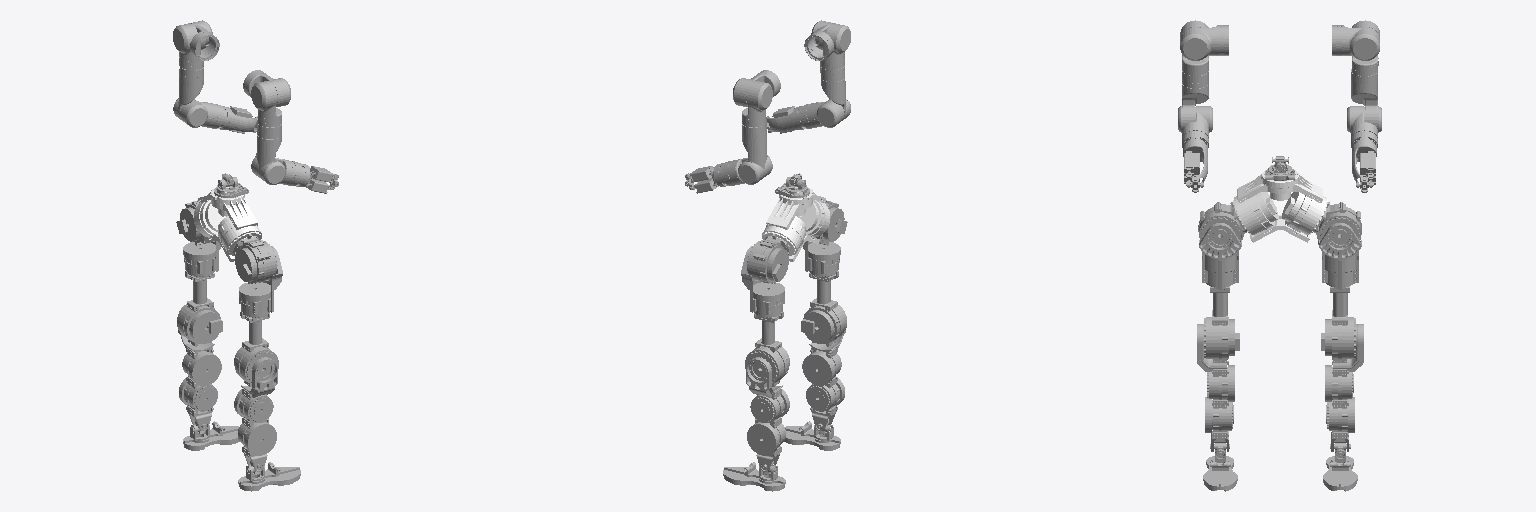
--- Facts derived from the render (not from the file) ---
The picture shows the robot from 3 angles, left to right: view 1: azimuth 30°, elevation 25°; view 2: azimuth 150°, elevation 25°; view 3: azimuth 270°, elevation 25°; orthographic projection.
Robot: dexbot — 30 links, 29 joints (12 revolute, 17 fixed); root link base_link; default pose: every joint at zero.
Visible links, largest first — view 1: leg_r4_link, base_link, leg_l4_link, leg_l3_link, leg_r1_link, leg_r3_link, leg_r2_link, arm_r3_link, leg_l2_link, leg_r6_link, arm_r2_link, leg_l6_link (+8 smaller); view 2: leg_l4_link, base_link, leg_r4_link, leg_r3_link, leg_l1_link, leg_l3_link, leg_l2_link, arm_l3_link, leg_r2_link, leg_l6_link, arm_l2_link, leg_r6_link (+8 smaller); view 3: base_link, leg_l4_link, leg_r4_link, leg_r2_link, leg_l2_link, leg_l3_link, leg_r3_link, arm_r1_link, arm_l1_link, leg_l1_link, leg_r1_link, arm_l5_link (+9 smaller).
Boxes of the visible links, x1,y1,x2,y2 form: leg_r4_link: (234, 357, 277, 471); base_link: (194, 187, 261, 261); leg_l4_link: (178, 308, 221, 430); leg_l3_link: (177, 271, 222, 346); leg_r1_link: (233, 234, 277, 283); leg_r3_link: (234, 312, 278, 386); leg_r2_link: (239, 246, 282, 317); arm_r3_link: (256, 123, 285, 184); leg_l2_link: (183, 241, 220, 276); leg_r6_link: (238, 462, 300, 491); arm_r2_link: (251, 81, 281, 127); leg_l6_link: (183, 421, 239, 450); leg_l4_link: (746, 357, 789, 471); base_link: (762, 187, 829, 261); leg_r4_link: (802, 308, 845, 430); leg_r3_link: (801, 271, 846, 346); leg_l1_link: (746, 234, 790, 283); leg_l3_link: (745, 312, 789, 386); leg_l2_link: (741, 246, 784, 317); arm_l3_link: (738, 123, 767, 184); leg_r2_link: (803, 241, 840, 276); leg_l6_link: (723, 462, 785, 491); arm_l2_link: (742, 81, 772, 127); leg_r6_link: (784, 421, 840, 450); base_link: (1233, 170, 1327, 242); leg_l4_link: (1325, 324, 1363, 451); leg_r4_link: (1197, 324, 1234, 451); leg_r2_link: (1199, 223, 1241, 289); leg_l2_link: (1319, 223, 1361, 289); leg_l3_link: (1321, 286, 1356, 362); leg_r3_link: (1204, 286, 1239, 362); arm_r1_link: (1180, 25, 1228, 60); arm_l1_link: (1332, 25, 1379, 60); leg_l1_link: (1313, 202, 1361, 244); leg_r1_link: (1198, 202, 1246, 244); arm_l5_link: (1351, 131, 1377, 192).
Bounding box of the posed robot: 0.3168 × 0.5764 × 1.39 m (x, y, z).
27 mesh visuals loaded from 30 distinct referenced files (27 binary STL); not drawn: 3 (reference not matched to a file when rendering).

URDF robot description (dexbot):
<?xml version="1.0" encoding="utf-8"?>
<!-- This URDF was automatically created by SolidWorks to URDF Exporter! Originally created by Stephen Brawner ([email redacted]) 
     Commit Version: 1.6.0-4-g7f85cfe  Build Version: 1.6.7995.38578
     For more information, please see http://wiki.ros.org/sw_urdf_exporter -->
<robot
  name="dexbot">
  <mujoco>
    <compiler meshdir="../meshes/" balanceinertia="true" discardvisual="false"/>
  </mujoco>
  <link
    name="base_link">
    <inertial>
      <origin
        xyz="0.00026092 -2.8127E-06 -0.032217"
        rpy="0 0 0" />
      <mass
        value="6.36148470" />
      <inertia
        ixx="0.04306588"
        ixy="-0.00000008"
        ixz="-0.00001174"
        iyy="0.01886801"
        iyz="0.00000066"
        izz="0.03427573" />
    </inertial>
    <visual>
      <origin
        xyz="0 0 0"
        rpy="0 0 0" />
      <geometry>
        <mesh
          filename="../meshes/base_link.STL" />
      </geometry>
      <material
        name="">
        <color
          rgba="1 1 1 1" />
      </material>
    </visual>
    <collision>
      <origin
        xyz="0 0 0"
        rpy="0 0 0" />
      <geometry>
	    <box size="0.05 0.05 0.05"/>
      </geometry>
    </collision>
  </link>
 
  <link
    name="leg_l1_link">
    <inertial>
      <origin
        xyz="0.0017864690688535 0.116806232663126 -0.06730045557826"
        rpy="0 0 0" />
      <mass
        value="2.52127296" />
      <inertia
        ixx="0.00489363"
        ixy="0.00004173"
        ixz="-0.00002377"
        iyy="0.00398523"
        iyz="0.00008835"
        izz="0.00406691" />
    </inertial>
    <visual>
      <origin
        xyz="0 0 0"
        rpy="0 0 0" />
      <geometry>
        <mesh
          filename="../meshes/leg_l1_link.STL" />
      </geometry>
      <material
        name="">
        <color
          rgba="0.752941176470588 0.752941176470588 0.752941176470588 1" />
      </material>
    </visual>
    <collision>
      <origin
        xyz="0 0 0"
        rpy="0 0 0" />
      <geometry>
        <mesh
          filename="../meshes/leg_l1_link.STL" />
      </geometry>
    </collision>
  </link>
  <joint
    name="leg_l1_joint"
    type="revolute">
    <origin
      xyz="0 0.046765 -0.047489"
      rpy="0 -0. 0" />
    <parent
      link="base_link" />
    <child
      link="leg_l1_link" />
    <axis
      xyz="0 0.86603 -0.5" />
    <limit
      lower="-2.878"
      upper="2.878"
      effort="360"
      velocity="10" />
  </joint>
  <link
    name="leg_l2_link">
    <inertial>
      <origin
        xyz="0.0181611526889743 7.56912721500136E-07 -0.100016047593423"
        rpy="0 0 0" />
      <mass
        value="1.73504778" />
      <inertia
        ixx="0.00395397"
        ixy="-0.00000001"
        ixz="-0.00093866"
        iyy="0.00413227"
        iyz="-0.00000002"
        izz="0.00269158" />
    </inertial>
    <visual>
      <origin
        xyz="0 0 0"
        rpy="0 0 0" />
      <geometry>
        <mesh
          filename="../meshes/leg_l2_link.STL" />
      </geometry>
      <material
        name="">
        <color
          rgba="0.752941176470588 0.752941176470588 0.752941176470588 1" />
      </material>
    </visual>
    <collision>
      <origin
        xyz="0 0 0"
        rpy="0 0 0" />
      <geometry>
        <mesh
          filename="../meshes/leg_l2_link.STL" />
      </geometry>
    </collision>
  </link>
  <joint
    name="leg_l2_joint"
    type="revolute">
    <origin
      xyz="0 0.12298 -0.071"
      rpy="0 0 0" />
    <parent
      link="leg_l1_link" />
    <child
      link="leg_l2_link" />
    <axis
      xyz="1 0 0" />
    <limit
      lower="-0.523"
      upper="3.663"
      effort="360"
      velocity="10" />
  </joint>
  <link
    name="leg_l3_link">
    <inertial>
      <origin
        xyz="0.000114524600190401 0.00164777125622231 -0.147066721883769"
        rpy="0 0 0" />
      <mass
        value="2.61656788" />
      <inertia
        ixx="0.00782239"
        ixy="0.00006403"
        ixz="0.00007604"
        iyy="0.00840438"
        iyz="0.00005952"
        izz="0.00374500" />
    </inertial>
    <visual>
      <origin
        xyz="0 0 0"
        rpy="0 0 0" />
      <geometry>
        <mesh
          filename="../meshes/leg_l3_link.STL" />
      </geometry>
      <material
        name="">
        <color
          rgba="0.752941176470588 0.752941176470588 0.752941176470588 1" />
      </material>
    </visual>
    <collision>
      <origin
        xyz="0 0 0"
        rpy="0 0 0" />
      <geometry>
        <mesh
          filename="../meshes/leg_l3_link.STL" />
      </geometry>
    </collision>
  </link>
  <joint
    name="leg_l3_joint"
    type="revolute">
    <origin
      xyz="0 0 -0.167"
      rpy="0 0 -0." />
    <parent
      link="leg_l2_link" />
    <child
      link="leg_l3_link" />
    <axis
      xyz="0 0 1" />
    <limit
      lower="-2.791"
      upper="2.791"
      effort="120"
      velocity="10" />
  </joint>
  <link
    name="leg_l4_link">
    <inertial>
      <origin
        xyz="-2.42788361047336E-08 0.00822937854237335 -0.173854656992678"
        rpy="0 0 0" />
      <mass
        value="3.31554813 " />
      <inertia
        ixx="0.01958814"
        ixy="1.45675411582526E-10"
        ixz="3.648473073682E-10"
        iyy="0.01919917"
        iyz="-0.00126641"
        izz="0.00408025" />
    </inertial>
    <visual>
      <origin
        xyz="0 0 0"
        rpy="0 0 0" />
      <geometry>
        <mesh
          filename="../meshes/leg_l4_link.STL" />
      </geometry>
      <material
        name="">
        <color
          rgba="0.752941176470588 0.752941176470588 0.752941176470588 1" />
      </material>
    </visual>
    <collision>
      <origin
        xyz="0 0 0"
        rpy="0 0 0" />
      <geometry>
	    <box size="0.1 0.1 0.2"/>
      </geometry>
    </collision>
  </link>
  <joint
    name="leg_l4_joint"
    type="revolute">
    <origin
      xyz="0 0 -0.173"
      rpy="0 0. 0" />
    <parent
      link="leg_l3_link" />
    <child
      link="leg_l4_link" />
    <axis
      xyz="0 1 0" />
    <limit
      lower="-2.355"
      upper="2.355"
      effort="360"
      velocity="10" />
  </joint>
  <link
    name="leg_l5_link">
    <inertial>
      <origin
        xyz="4.00159781425996E-05 -1.65302931448563E-05 -0.00782114986776949"
        rpy="0 0 0" />
      <mass
        value="0.07526525" />
      <inertia
        ixx="0.00001536"
        ixy="2.28805291083391E-22"
        ixz="0.00000014"
        iyy="0.00001554"
        iyz="-2.04482003272117E-20"
        izz="0.00001540" />
    </inertial>
    <visual>
      <origin
        xyz="0 0 0"
        rpy="0 0 0" />
      <geometry>
        <mesh
          filename="../meshes/leg_l5_link.STL" />
      </geometry>
      <material
        name="">
        <color
          rgba="0.752941176470588 0.752941176470588 0.752941176470588 1" />
      </material>
    </visual>
    <collision>
      <origin
        xyz="0 0 0"
        rpy="0 0 0" />
      <geometry>
        <mesh
          filename="../meshes/leg_l5_link.STL" />
      </geometry>
    </collision>
  </link>
  <joint
    name="leg_l5_joint"
    type="revolute">
    <origin
      xyz="0 0 -0.34"
      rpy="0 -0. 0" />
    <parent
      link="leg_l4_link" />
    <child
      link="leg_l5_link" />
    <axis
      xyz="0 1 0" />
    <limit
      lower="-1.046"
      upper="0.436"
      effort="60"
      velocity="10" />
    <dynamics
      damping="0."
      friction="0.1" />
  </joint>
  <link
    name="leg_l6_link">
    <inertial>
      <origin
        xyz="0.0457872515086006 -6.33583149833861E-09 -0.0382686559903004"
        rpy="0 0 0" />
      <mass
        value="0.53640572" />
      <inertia
        ixx="0.00030450"
        ixy="-6.41793064473971E-11"
        ixz="0.00006785"
        iyy="0.00162803"
        iyz="-5.36686897038477E-11"
        izz="0.00177516" />
    </inertial>
    <visual>
      <origin
        xyz="0 0 0"
        rpy="0 0 0" />
      <geometry>
        <mesh
          filename="../meshes/leg_l6_link.STL" />
      </geometry>
      <material
        name="">
        <color
          rgba="0.752941176470588 0.752941176470588 0.752941176470588 1" />
      </material>
    </visual>
    <collision>
      <origin
        xyz="0 0 0"
        rpy="0 0 0" />
      <geometry>
        <mesh
          filename="../meshes/leg_l6_link.STL" />
      </geometry>
    </collision>
  </link>
  <joint
    name="leg_l6_joint"
    type="revolute">
    <origin
      xyz="0 0 -0.015"
      rpy="0 0 0" />
    <parent
      link="leg_l5_link" />
    <child
      link="leg_l6_link" />
    <axis
      xyz="1 0 0" />
    <limit
      lower="-0.261"
      upper="0.261"
      effort="60"
      velocity="10" />
    <dynamics
      damping="0."
      friction="0.1" />
  </joint>
  <link
    name="leg_r1_link">
    <inertial>
      <origin
        xyz="0.00178614318038721 -0.11680589348535 -0.0673010430487607"
        rpy="0 0 0" />
      <mass
        value="2.52127296" />
      <inertia
        ixx="0.00489363"
        ixy="-0.00004169"
        ixz="-0.00002379"
        iyy="0.00398515"
        iyz="-0.00008830"
        izz="0.00406699" />
    </inertial>
    <visual>
      <origin
        xyz="0 0 0"
        rpy="0 0 0" />
      <geometry>
        <mesh
          filename="../meshes/leg_r1_link.STL" />
      </geometry>
      <material
        name="">
        <color
          rgba="0.752941176470588 0.752941176470588 0.752941176470588 1" />
      </material>
    </visual>
    <collision>
      <origin
        xyz="0 0 0"
        rpy="0 0 0" />
      <geometry>
        <mesh
          filename="../meshes/leg_r1_link.STL" />
      </geometry>
    </collision>
  </link>
  <joint
    name="leg_r1_joint"
    type="revolute">
    <origin
      xyz="0 -0.046765 -0.047489"
      rpy="0 -0. 0" />
    <parent
      link="base_link" />
    <child
      link="leg_r1_link" />
    <axis
      xyz="0 0.86603 0.5" />
    <limit
      lower="-2.878"
      upper="2.878"
      effort="360"
      velocity="10" />
  </joint>
  <link
    name="leg_r2_link">
    <inertial>
      <origin
        xyz="0.0181611526889737 7.56912739346971E-07 -0.100016047593425"
        rpy="0 0 0" />
      <mass
        value="1.73504778 " />
      <inertia
        ixx="0.00395397"
        ixy="-0.00000001"
        ixz="-0.00093866"
        iyy="0.00413227"
        iyz="-0.00000002"
        izz="0.00269158" />
    </inertial>
    <visual>
      <origin
        xyz="0 0 0"
        rpy="0 0 0" />
      <geometry>
        <mesh
          filename="../meshes/leg_r2_link.STL" />
      </geometry>
      <material
        name="">
        <color
          rgba="0.752941176470588 0.752941176470588 0.752941176470588 1" />
      </material>
    </visual>
    <collision>
      <origin
        xyz="0 0 0"
        rpy="0 0 0" />
      <geometry>
        <mesh
          filename="../meshes/leg_r2_link.STL" />
      </geometry>
    </collision>
  </link>
  <joint
    name="leg_r2_joint"
    type="revolute">
    <origin
      xyz="0 -0.12298 -0.071"
      rpy="0 0 0" />
    <parent
      link="leg_r1_link" />
    <child
      link="leg_r2_link" />
    <axis
      xyz="1 0 0" />
    <limit
      lower="-3.663"
      upper="0.523"
      effort="360"
      velocity="10" />
  </joint>
  <link
    name="leg_r3_link">
    <inertial>
      <origin
        xyz="0.000114524600189936 -0.00164777130191504 -0.152066096139861"
        rpy="0 0 0" />
      <mass
        value="2.61656788" />
      <inertia
        ixx="0.00782235"
        ixy="-0.00006403"
        ixz="0.00007614"
        iyy="0.00840433"
        iyz="-0.00005955"
        izz="0.00374500" />
    </inertial>
    <visual>
      <origin
        xyz="0 0 0"
        rpy="0 0 0" />
      <geometry>
        <mesh
          filename="../meshes/leg_r3_link.STL" />
      </geometry>
      <material
        name="">
        <color
          rgba="0.752941176470588 0.752941176470588 0.752941176470588 1" />
      </material>
    </visual>
    <collision>
      <origin
        xyz="0 0 0"
        rpy="0 0 0" />
      <geometry>
        <mesh
          filename="../meshes/leg_r3_link.STL" />
      </geometry>
    </collision>
  </link>
  <joint
    name="leg_r3_joint"
    type="revolute">
    <origin
      xyz="0 0 -0.162"
      rpy="0 0 0." />
    <parent
      link="leg_r2_link" />
    <child
      link="leg_r3_link" />
    <axis
      xyz="0 0 1" />
    <limit
      lower="-2.791"
      upper="2.791"
      effort="120"
      velocity="10" />
  </joint>
  <link
    name="leg_r4_link">
    <inertial>
      <origin
        xyz="2.42790771935745E-08 -0.00822937854297046 -0.173854656994349"
        rpy="0 0 0" />
      <mass
        value="3.31554813" />
      <inertia
        ixx="0.01958814"
        ixy="1.4568009343734E-10"
        ixz="-3.64833965217596E-10"
        iyy="0.01919917"
        iyz="0.00126641"
        izz="0.00408025" />
    </inertial>
    <visual>
      <origin
        xyz="0 0 0"
        rpy="0 0 0" />
      <geometry>
        <mesh
          filename="../meshes/leg_r4_link.STL" />
      </geometry>
      <material
        name="">
        <color
          rgba="0.752941176470588 0.752941176470588 0.752941176470588 1" />
      </material>
    </visual>
    <collision>
      <origin
        xyz="0 0 0"
        rpy="0 0 0" />
      <geometry>
	    <box size="0.1 0.1 0.2"/>
      </geometry>
    </collision>
  </link>
  <joint
    name="leg_r4_joint"
    type="revolute">
    <origin
      xyz="0 0 -0.178"
      rpy="0 0. 0" />
    <parent
      link="leg_r3_link" />
    <child
      link="leg_r4_link" />
    <axis
      xyz="0 1 0" />
    <limit
      lower="-2.355"
      upper="2.355"
      effort="360"
      velocity="10" />
  </joint>
  <link
    name="leg_r5_link">
    <inertial>
      <origin
        xyz="4.00159781427515E-05 1.65302931921796E-05 -0.00782114986777116"
        rpy="0 0 0" />
      <mass
        value="0.07526525 " />
      <inertia
        ixx="0.00001536"
        ixy="-6.76802670148237E-22"
        ixz="0.00000014"
        iyy="0.00001554"
        iyz="-6.28566146662745E-21"
        izz="0.00001540" />
    </inertial>
    <visual>
      <origin
        xyz="0 0 0"
        rpy="0 0 0" />
      <geometry>
        <mesh
          filename="../meshes/leg_r5_link.STL" />
      </geometry>
      <material
        name="">
        <color
          rgba="0.752941176470588 0.752941176470588 0.752941176470588 1" />
      </material>
    </visual>
    <collision>
      <origin
        xyz="0 0 0"
        rpy="0 0 0" />
      <geometry>
        <mesh
          filename="../meshes/leg_r5_link.STL" />
      </geometry>
    </collision>
  </link>
  <joint
    name="leg_r5_joint"
    type="revolute">
    <origin
      xyz="0 0 -0.34"
      rpy="0 -0. 0" />
    <parent
      link="leg_r4_link" />
    <child
      link="leg_r5_link" />
    <axis
      xyz="0 1 0" />
    <limit
      lower="-1.046"
      upper="0.436"
      effort="60"
      velocity="10" />
    <dynamics
      damping="0."
      friction="0.1" />
  </joint>
  <link
    name="leg_r6_link">
    <inertial>
      <origin
        xyz="0.0457872515086024 -6.33582283859901E-09 -0.0382686559903024"
        rpy="0 0 0" />
      <mass
        value="0.53640572" />
      <inertia
        ixx="0.00030450"
        ixy="-6.41793116816966E-11"
        ixz="0.00006785"
        iyy="0.00162803"
        iyz="-5.36686913549503E-11"
        izz="0.00177516" />
    </inertial>
    <visual>
      <origin
        xyz="0 0 0"
        rpy="0 0 0" />
      <geometry>
        <mesh
          filename="../meshes/leg_r6_link.STL" />
      </geometry>
      <material
        name="">
        <color
          rgba="0.752941176470588 0.752941176470588 0.752941176470588 1" />
      </material>
    </visual>
    <collision>
      <origin
        xyz="0 0 0"
        rpy="0 0 0" />
      <geometry>
        <mesh
          filename="../meshes/leg_r6_link.STL" />
      </geometry>
    </collision>
  </link>
  <joint
    name="leg_r6_joint"
    type="revolute">
    <origin
      xyz="0 0 -0.015"
      rpy="0 0 0" />
    <parent
      link="leg_r5_link" />
    <child
      link="leg_r6_link" />
    <axis
      xyz="1 0 0" />
    <limit
      lower="-0.261"
      upper="0.261"
      effort="60"
      velocity="10" />
    <dynamics
      damping="0."
      friction="0.1" />
  </joint>
  <link
    name="waist_yaw_link">
    <inertial>
      <origin
        xyz="0.00787627921192027 -2.35767009722762E-05 -0.0105472849579242"
        rpy="0 0 0" />
      <mass
        value="0.24957042" />
      <inertia
        ixx="0.00019007"
        ixy="0.00000020"
        ixz="-0.00000368"
        iyy="0.00021255"
        iyz="0.00000002"
        izz="0.00030541" />
    </inertial>
    <visual>
      <origin
        xyz="0 0 0"
        rpy="0 0 0" />
      <geometry>
        <mesh
          filename="../meshes/waist_yaw_link.STL" />
      </geometry>
      <material
        name="">
        <color
          rgba="0.752941176470588 0.752941176470588 0.752941176470588 1" />
      </material>
    </visual>
    <collision>
      <origin
        xyz="0 0 0"
        rpy="0 0 0" />
      <geometry>
        <mesh
          filename="../meshes/waist_yaw_link.STL" />
      </geometry>
    </collision>
  </link>
  <joint
    name="waist_yaw_joint"
    type="fixed">
    <origin
      xyz="0 0 0.068702"
      rpy="0 0.03 0" />
    <parent
      link="base_link" />
    <child
      link="waist_yaw_link" />
    <axis
      xyz="0 0 1" />
    <limit
      lower="-1"
      upper="1"
      effort="120"
      velocity="10" />
  </joint>
  <link
    name="waist_roll_link">
    <inertial>
      <origin
        xyz="-0.000388928550485794 0.000350132910345151 0.00738202287463685"
        rpy="0 0 0" />
      <mass
        value="0.16196054" />
      <inertia
        ixx="0.00002646"
        ixy="-0.00000002"
        ixz="-0.00000046"
        iyy="0.00003035"
        iyz="-0.00000038"
        izz="0.00003003" />
    </inertial>
    <visual>
      <origin
        xyz="0 0 0"
        rpy="0 0 0" />
      <geometry>
        <mesh
          filename="../meshes/waist_roll_link.STL" />
      </geometry>
      <material
        name="">
        <color
          rgba="0.752941176470588 0.752941176470588 0.752941176470588 1" />
      </material>
    </visual>
    <collision>
      <origin
        xyz="0 0 0"
        rpy="0 0 0" />
      <geometry>
        <mesh
          filename="../meshes/waist_roll_link.STL" />
      </geometry>
    </collision>
  </link>
  <joint
    name="waist_roll_joint"
    type="fixed">
    <origin
      xyz="0 0 0.013"
      rpy="0 0 0" />
    <parent
      link="waist_yaw_link" />
    <child
      link="waist_roll_link" />
    <axis
      xyz="1 0 0" />
    <limit
      lower="-1"
      upper="1"
      effort="120"
      velocity="10" />
  </joint>
  <link
    name="waist_pitch_link">
    <inertial>
      <origin
        xyz="-0.00970826894856499 -0.000666017269940171 0.246498190853554"
        rpy="0 0 0" />
      <mass
        value="16.58516457 " />
      <inertia
        ixx="0.39246282"
        ixy="-0.00207990"
        ixz="-0.00581603"
        iyy="0.34173665"
        iyz="-0.00122791"
        izz="0.12457224" />
    </inertial>
    <visual>
      <origin
        xyz="0 0 0"
        rpy="0 0 0" />
      <geometry>
        <mesh
          filename="../meshes/waist_pitch_link.STL" />
      </geometry>
      <material
        name="">
        <color
          rgba="0.752941176470588 0.752941176470588 0.752941176470588 1" />
      </material>
    </visual>
    <collision>
      <origin
        xyz="0 0 0"
        rpy="0 0 0" />
      <geometry>
        <mesh
          filename="../meshes/waist_pitch_link.STL" />
      </geometry>
    </collision>
  </link>
  <joint
    name="waist_pitch_joint"
    type="fixed">
    <origin
      xyz="0 0 0.014"
      rpy="0 0 0" />
    <parent
      link="waist_roll_link" />
    <child
      link="waist_pitch_link" />
    <axis
      xyz="0 1 0" />
    <limit
      lower="-1"
      upper="1"
      effort="120"
      velocity="10" />
  </joint>
  <link
    name="arm_l1_link">
    <inertial>
      <origin
        xyz="0.0121006127120013 0.0572041155775264 -4.1012711069488E-06"
        rpy="0 0 0" />
      <mass
        value="0.20393504" />
      <inertia
        ixx="0.00045830"
        ixy="-0.00008360"
        ixz="-0.00000002"
        iyy="0.00028678"
        iyz="-0.00000003"
        izz="0.00041174" />
    </inertial>
    <visual>
      <origin
        xyz="0 0 0"
        rpy="0 0 0" />
      <geometry>
        <mesh
          filename="../meshes/arm_l1_link.STL" />
      </geometry>
      <material
        name="">
        <color
          rgba="0.752941176470588 0.752941176470588 0.752941176470588 1" />
      </material>
    </visual>
    <collision>
      <origin
        xyz="0 0 0"
        rpy="0 0 0" />
      <geometry>
        <mesh
          filename="../meshes/arm_l1_link.STL" />
      </geometry>
    </collision>
  </link>
  <joint
    name="arm_l1_joint"
    type="fixed">
    <origin
      xyz="0 0.144 0.38"
      rpy="0 0 0" />
    <parent
      link="waist_pitch_link" />
    <child
      link="arm_l1_link" />
    <axis
      xyz="0 1 0" />
    <limit
      lower="-1"
      upper="1"
      effort="120"
      velocity="10" />
  </joint>
  <link
    name="arm_l2_link">
    <inertial>
      <origin
        xyz="-0.00161764285940526 -3.97015482295204E-07 -0.00579799005909298"
        rpy="0 0 0" />
      <mass
        value="1.00374304" />
      <inertia
        ixx="0.00116457"
        ixy="-6.74756971402415E-08"
        ixz="0.00001309"
        iyy="0.00126789"
        iyz="-0.00000004"
        izz="0.00092462" />
    </inertial>
    <visual>
      <origin
        xyz="0 0 0"
        rpy="0 0 0" />
      <geometry>
        <mesh
          filename="../meshes/arm_l2_link.STL" />
      </geometry>
      <material
        name="">
        <color
          rgba="0.752941176470588 0.752941176470588 0.752941176470588 1" />
      </material>
    </visual>
    <collision>
      <origin
        xyz="0 0 0"
        rpy="0 0 0" />
      <geometry>
        <mesh
          filename="../meshes/arm_l2_link.STL" />
      </geometry>
    </collision>
  </link>
  <joint
    name="arm_l2_joint"
    type="fixed">
    <origin
      xyz="-0.001 0.096 0"
      rpy="0 0 0" />
    <parent
      link="arm_l1_link" />
    <child
      link="arm_l2_link" />
    <axis
      xyz="1 0 0" />
    <limit
      lower="-1"
      upper="1"
      effort="120"
      velocity="10" />
  </joint>
  <link
    name="arm_l3_link">
    <inertial>
      <origin
        xyz="9.00903682174029E-05 0.00118340656204821 -0.0833842312044012"
        rpy="0 0 0" />
      <mass
        value="1.48114068" />
      <inertia
        ixx="0.00792989"
        ixy="-0.00000373"
        ixz="0.00003198"
        iyy="0.00779496"
        iyz="0.00014312"
        izz="0.00106001" />
    </inertial>
    <visual>
      <origin
        xyz="0 0 0"
        rpy="0 0 0" />
      <geometry>
        <mesh
          filename="../meshes/arm_l3_link.STL" />
      </geometry>
      <material
        name="">
        <color
          rgba="0.752941176470588 0.752941176470588 0.752941176470588 1" />
      </material>
    </visual>
    <collision>
      <origin
        xyz="0 0 0"
        rpy="0 0 0" />
      <geometry>
        <mesh
          filename="../meshes/arm_l3_link.STL" />
      </geometry>
    </collision>
  </link>
  <joint
    name="arm_l3_joint"
    type="fixed">
    <origin
      xyz="0.001 0 -0.096003"
      rpy="0 0 0" />
    <parent
      link="arm_l2_link" />
    <child
      link="arm_l3_link" />
    <axis
      xyz="0 0 1" />
    <limit
      lower="-1"
      upper="1"
      effort="120"
      velocity="10" />
  </joint>
  <link
    name="arm_l4_link">
    <inertial>
      <origin
        xyz="1.49804098653616E-07 -0.0117030083597582 -0.0301791602436848"
        rpy="0 0 0" />
      <mass
        value="0.15069185" />
      <inertia
        ixx="0.00021956"
        ixy="-4.35065508759493E-10"
        ixz="8.14225140142345E-10"
        iyy="0.00024171"
        iyz="0.00004659"
        izz="0.00016652" />
    </inertial>
    <visual>
      <origin
        xyz="0 0 0"
        rpy="0 0 0" />
      <geometry>
        <mesh
          filename="../meshes/arm_l4_link.STL" />
      </geometry>
      <material
        name="">
        <color
          rgba="0.752941176470588 0.752941176470588 0.752941176470588 1" />
      </material>
    </visual>
    <collision>
      <origin
        xyz="0 0 0"
        rpy="0 0 0" />
      <geometry>
        <mesh
          filename="../meshes/arm_l4_link.STL" />
      </geometry>
    </collision>
  </link>
  <joint
    name="arm_l4a_joint"
    type="fixed">
    <origin
      xyz="0.0012982 -0.00057271 -0.154"
      rpy="0 -1.2 0" />
    <parent
      link="arm_l3_link" />
    <child
      link="arm_l4_link" />
    <axis
      xyz="0 1 0" />
    <limit
      lower="-1"
      upper="1"
      effort="120"
      velocity="10" />
  </joint>
  <link
    name="arm_l5_link">
    <inertial>
      <origin
        xyz="-2.29959343993162E-08 0.000734391169738891 -0.0354032821121625"
        rpy="0 0 0" />
      <mass
        value="0.93167260" />
      <inertia
        ixx="0.00229040"
        ixy="1.52390942101639E-09"
        ixz="2.15023246986411E-11"
        iyy="0.00228533"
        iyz="0.00004692"
        izz="0.00058394" />
    </inertial>
    <visual>
      <origin
        xyz="0 0 0"
        rpy="0 0 0" />
      <geometry>
        <mesh
          filename="../meshes/arm_l5_link.STL" />
      </geometry>
      <material
        name="">
        <color
          rgba="0.752941176470588 0.752941176470588 0.752941176470588 1" />
      </material>
    </visual>
    <collision>
      <origin
        xyz="0 0 0"
        rpy="0 0 0" />
      <geometry>
        <mesh
          filename="../meshes/arm_l5_link.STL" />
      </geometry>
    </collision>
  </link>
  <joint
    name="arm_l5a_joint"
    type="fixed">
    <origin
      xyz="0 -0.0010034 -0.078003"
      rpy="0 0 0" />
    <parent
      link="arm_l4_link" />
    <child
      link="arm_l5_link" />
    <axis
      xyz="0 0 1" />
    <limit
      lower="-1"
      upper="1"
      effort="120"
      velocity="10" />
  </joint>
  <link
    name="arm_l6_link">
    <inertial>
      <origin
        xyz="7.00162865575459E-05 -6.51130576661829E-05 -1.23502315145518E-11"
        rpy="0 0 0" />
      <mass
        value="0.05019123" />
      <inertia
        ixx="0.00000729"
        ixy="2.55780907874052E-11"
        ixz="4.94641661915567E-18"
        iyy="0.00000887"
        iyz="1.03998630487718E-13"
        izz="0.00001475" />
    </inertial>
    <visual>
      <origin
        xyz="0 0 0"
        rpy="0 0 0" />
      <geometry>
        <mesh
          filename="../meshes/arm_l6_link.STL" />
      </geometry>
      <material
        name="">
        <color
          rgba="0.752941176470588 0.752941176470588 0.752941176470588 1" />
      </material>
    </visual>
    <collision>
      <origin
        xyz="0 0 0"
        rpy="0 0 0" />
      <geometry>
        <mesh
          filename="../meshes/arm_l6_link.STL" />
      </geometry>
    </collision>
  </link>
  <joint
    name="arm_l6a_joint"
    type="fixed">
    <origin
      xyz="0 0 -0.172"
      rpy="0 0 0" />
    <parent
      link="arm_l5_link" />
    <child
      link="arm_l6_link" />
    <axis
      xyz="0 1 0" />
    <limit
      lower="-1"
      upper="1"
      effort="120"
      velocity="10" />
  </joint>
  <link
    name="arm_l7_link">
    <inertial>
      <origin
        xyz="0.00334756121687912 -0.00476719714664378 -0.0608151433410942"
        rpy="0 0 0" />
      <mass
        value="0.69558462" />
      <inertia
        ixx="0.00242159"
        ixy="0.00021734"
        ixz="0.00000364"
        iyy="0.00237365"
        iyz="-0.00009025"
        izz="0.00091109" />
    </inertial>
    <visual>
      <origin
        xyz="0 0 0"
        rpy="0 0 0" />
      <geometry>
        <mesh
          filename="../meshes/arm_l7_link.STL" />
      </geometry>
      <material
        name="">
        <color
          rgba="0.752941176470588 0.752941176470588 0.752941176470588 1" />
      </material>
    </visual>
    <collision>
      <origin
        xyz="0 0 0"
        rpy="0 0 0" />
      <geometry>
        <mesh
          filename="../meshes/arm_l7_link.STL" />
      </geometry>
    </collision>
  </link>
  <joint
    name="arm_l7_joint"
    type="fixed">
    <origin
      xyz="0 0 0"
      rpy="0 0 0" />
    <parent
      link="arm_l6_link" />
    <child
      link="arm_l7_link" />
    <axis
      xyz="1 0 0" />
    <limit
      lower="-1"
      upper="1"
      effort="120"
      velocity="10" />
  </joint>
  <link
    name="arm_r1_link">
    <inertial>
      <origin
        xyz="0.0121006127119993 -0.057204115577526 4.10127110739289E-06"
        rpy="0 0 0" />
      <mass
        value="0.20393504" />
      <inertia
        ixx="0.00045830"
        ixy="0.00008360"
        ixz="0.00000002"
        iyy="0.00028678"
        iyz="-0.00000003"
        izz="0.00041174" />
    </inertial>
    <visual>
      <origin
        xyz="0 0 0"
        rpy="0 0 0" />
      <geometry>
        <mesh
          filename="../meshes/arm_r1_link.STL" />
      </geometry>
      <material
        name="">
        <color
          rgba="0.752941176470588 0.752941176470588 0.752941176470588 1" />
      </material>
    </visual>
    <collision>
      <origin
        xyz="0 0 0"
        rpy="0 0 0" />
      <geometry>
        <mesh
          filename="../meshes/arm_r1_link.STL" />
      </geometry>
    </collision>
  </link>
  <joint
    name="arm_r1_joint"
    type="fixed">
    <origin
      xyz="0 -0.144 0.38"
      rpy="0 0 0" />
    <parent
      link="waist_pitch_link" />
    <child
      link="arm_r1_link" />
    <axis
      xyz="0 1 0" />
    <limit
      lower="-1"
      upper="1"
      effort="120"
      velocity="10" />
  </joint>
  <link
    name="arm_r2_link">
    <inertial>
      <origin
        xyz="-0.00161764285940585 -3.97015482239693E-07 -0.00579799005909115"
        rpy="0 0 0" />
      <mass
        value="1.00374304 " />
      <inertia
        ixx="0.00116457"
        ixy="-6.74756971405435E-08"
        ixz="0.00001309"
        iyy="0.00126789"
        iyz="-0.00000004"
        izz="0.00092462" />
    </inertial>
    <visual>
      <origin
        xyz="0 0 0"
        rpy="0 0 0" />
      <geometry>
        <mesh
          filename="../meshes/arm_r2_link.STL" />
      </geometry>
      <material
        name="">
        <color
          rgba="0.752941176470588 0.752941176470588 0.752941176470588 1" />
      </material>
    </visual>
    <collision>
      <origin
        xyz="0 0 0"
        rpy="0 0 0" />
      <geometry>
        <mesh
          filename="../meshes/arm_r2_link.STL" />
      </geometry>
    </collision>
  </link>
  <joint
    name="arm_r2_joint"
    type="fixed">
    <origin
      xyz="-0.001 -0.096 0"
      rpy="0 0 0" />
    <parent
      link="arm_r1_link" />
    <child
      link="arm_r2_link" />
    <axis
      xyz="1 0 0" />
    <limit
      lower="-1"
      upper="1"
      effort="120"
      velocity="10" />
  </joint>
  <link
    name="arm_r3_link">
    <inertial>
      <origin
        xyz="-0.000671783132810063 -0.00211765209034712 -0.083500800793755"
        rpy="0 0 0" />
      <mass
        value="1.48145355" />
      <inertia
        ixx="0.00794073"
        ixy="0.00000208"
        ixz="-0.00002549"
        iyy="0.00780300"
        iyz="-0.00021459"
        izz="0.00106151" />
    </inertial>
    <visual>
      <origin
        xyz="0 0 0"
        rpy="0 0 0" />
      <geometry>
        <mesh
          filename="../meshes/arm_r3_link.STL" />
      </geometry>
      <material
        name="">
        <color
          rgba="0.752941176470588 0.752941176470588 0.752941176470588 1" />
      </material>
    </visual>
    <collision>
      <origin
        xyz="0 0 0"
        rpy="0 0 0" />
      <geometry>
        <mesh
          filename="../meshes/arm_r3_link.STL" />
      </geometry>
    </collision>
  </link>
  <joint
    name="arm_r3_joint"
    type="fixed">
    <origin
      xyz="0.001 0 -0.096003"
      rpy="0 0 0" />
    <parent
      link="arm_r2_link" />
    <child
      link="arm_r3_link" />
    <axis
      xyz="0 0 1" />
    <limit
      lower="-1"
      upper="1"
      effort="120"
      velocity="10" />
  </joint>
  <link
    name="arm_r4_link">
    <inertial>
      <origin
        xyz="-1.49804148750482E-07 0.00969955585975837 -0.0301791602436828"
        rpy="0 0 0" />
      <mass
        value="0.15069185" />
      <inertia
        ixx="0.00021956"
        ixy="-4.3506550876695E-10"
        ixz="-8.14225149772878E-10"
        iyy="0.00024171"
        iyz="-0.00004659"
        izz="0.00016652" />
    </inertial>
    <visual>
      <origin
        xyz="0 0 0"
        rpy="0 0 0" />
      <geometry>
        <mesh
          filename="../meshes/arm_r4_link.STL" />
      </geometry>
      <material
        name="">
        <color
          rgba="0.752941176470588 0.752941176470588 0.752941176470588 1" />
      </material>
    </visual>
    <collision>
      <origin
        xyz="0 0 0"
        rpy="0 0 0" />
      <geometry>
        <mesh
          filename="../meshes/arm_r4_link.STL" />
      </geometry>
    </collision>
  </link>
  <joint
    name="arm_r4a_joint"
    type="fixed">
    <origin
      xyz="0 0.0010035 -0.154"
      rpy="0 -1.2 0" />
    <parent
      link="arm_r3_link" />
    <child
      link="arm_r4_link" />
    <axis
      xyz="0 1 0" />
    <limit
      lower="-1"
      upper="1"
      effort="120"
      velocity="10" />
  </joint>
  <link
    name="arm_r5_link">
    <inertial>
      <origin
        xyz="2.29839983262953E-08 -0.000734384448753372 -0.0354032823706018"
        rpy="0 0 0" />
      <mass
        value="0.93167260 " />
      <inertia
        ixx="0.00229040"
        ixy="1.5237215482151E-09"
        ixz="-2.0558612775884E-11"
        iyy="0.00358688"
        iyz="-0.00004692"
        izz="0.00058394" />
    </inertial>
    <visual>
      <origin
        xyz="0 0 0"
        rpy="0 0 0" />
      <geometry>
        <mesh
          filename="../meshes/arm_r5_link.STL" />
      </geometry>
      <material
        name="">
        <color
          rgba="0.752941176470588 0.752941176470588 0.752941176470588 1" />
      </material>
    </visual>
    <collision>
      <origin
        xyz="0 0 0"
        rpy="0 0 0" />
      <geometry>
        <mesh
          filename="../meshes/arm_r5_link.STL" />
      </geometry>
    </collision>
  </link>
  <joint
    name="arm_r5a_joint"
    type="fixed">
    <origin
      xyz="0 -0.001 -0.078"
      rpy="0 0 0" />
    <parent
      link="arm_r4_link" />
    <child
      link="arm_r5_link" />
    <axis
      xyz="0 0 1" />
    <limit
      lower="-1"
      upper="1"
      effort="120"
      velocity="10" />
  </joint>
  <link
    name="arm_r6_link">
    <inertial>
      <origin
        xyz="-7.00162865573658E-05 6.51130576662107E-05 -2.24213009270002E-16"
        rpy="0 0 0" />
      <mass
        value="0.05019123" />
      <inertia
        ixx="0.00000729"
        ixy="2.55780907869747E-11"
        ixz="-1.44171828316231E-22"
        iyy="0.00000887"
        iyz="4.28611718593901E-22"
        izz="0.00001475" />
    </inertial>
    <visual>
      <origin
        xyz="0 0 0"
        rpy="0 0 0" />
      <geometry>
        <mesh
          filename="../meshes/arm_r6_link.STL" />
      </geometry>
      <material
        name="">
        <color
          rgba="0.752941176470588 0.752941176470588 0.752941176470588 1" />
      </material>
    </visual>
    <collision>
      <origin
        xyz="0 0 0"
        rpy="0 0 0" />
      <geometry>
        <mesh
          filename="../meshes/arm_r6_link.STL" />
      </geometry>
    </collision>
  </link>
  <joint
    name="arm_r6a_joint"
    type="fixed">
    <origin
      xyz="0 0 -0.172"
      rpy="0 0 0" />
    <parent
      link="arm_r5_link" />
    <child
      link="arm_r6_link" />
    <axis
      xyz="0 1 0" />
    <limit
      lower="-1"
      upper="1"
      effort="120"
      velocity="10" />
  </joint>
  <link
    name="arm_r7_link">
    <inertial>
      <origin
        xyz="0.00392280627605782 0.00445165416771251 -0.0608201661717542"
        rpy="0 0 0" />
      <mass
        value="0.69558462" />
      <inertia
        ixx="0.00238316"
        ixy="-0.00021760"
        ixz="0.00000923"
        iyy="0.00241114"
        iyz="0.00008965"
        izz="0.00091078" />
    </inertial>
    <visual>
      <origin
        xyz="0 0 0"
        rpy="0 0 0" />
      <geometry>
        <mesh
          filename="../meshes/arm_r7_link.STL" />
      </geometry>
      <material
        name="">
        <color
          rgba="0.752941176470588 0.752941176470588 0.752941176470588 1" />
      </material>
    </visual>
    <collision>
      <origin
        xyz="0 0 0"
        rpy="0 0 0" />
      <geometry>
        <mesh
          filename="../meshes/arm_r7_link.STL" />
      </geometry>
    </collision>
  </link>
  <joint
    name="arm_r7_joint"
    type="fixed">
    <origin
      xyz="0 0 0"
      rpy="0 0 0" />
    <parent
      link="arm_r6_link" />
    <child
      link="arm_r7_link" />
    <axis
      xyz="1 0 0" />
    <limit
      lower="-1"
      upper="1"
      effort="120"
      velocity="10" />
  </joint>
</robot>
